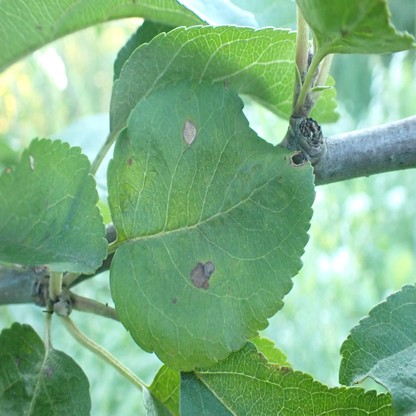frogeye_leaf_spot: (190, 262, 214, 290), (183, 120, 196, 144)
